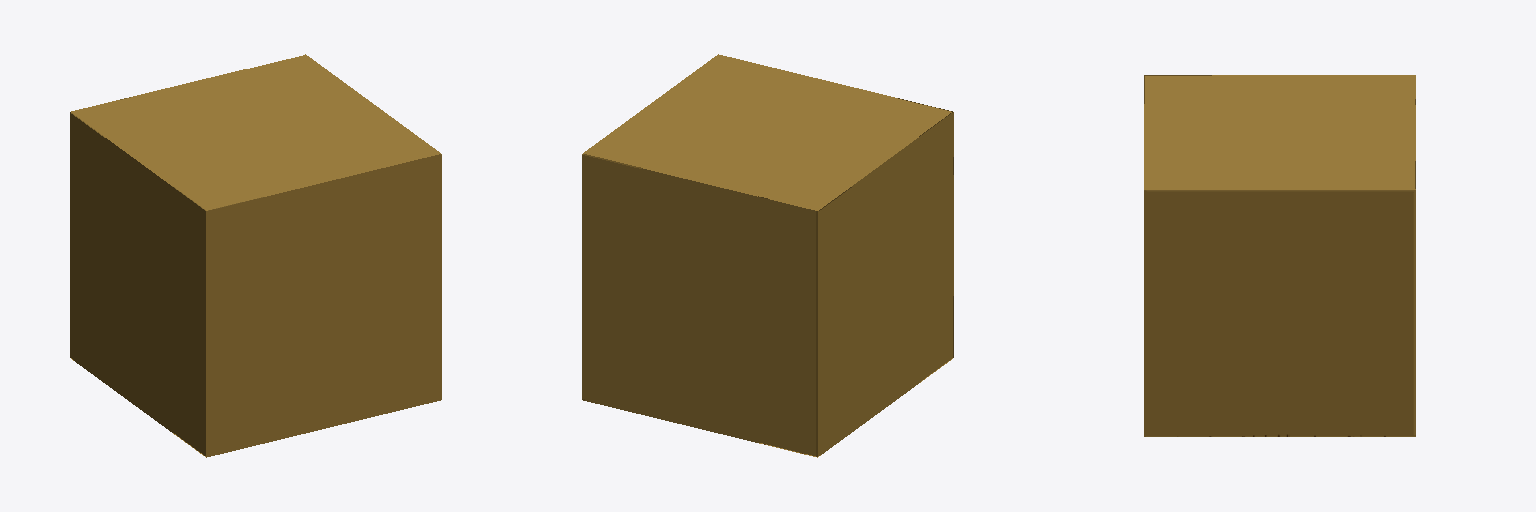
The picture shows the model from 3 angles: view 1: azimuth 30°, elevation 25°; view 2: azimuth 150°, elevation 25°; view 3: azimuth 270°, elevation 25°; orthographic projection.
Parts seen in each view (by area): view 1: Cube; view 2: Cube; view 3: Cube.
Boxes of the visible parts, <box> form: Cube: <box>70,54,441,457</box>; Cube: <box>582,54,953,457</box>; Cube: <box>1144,75,1415,436</box>.
Bounding box in the file's own units: 2 × 2 × 2.
Materials: 1 (1 with a texture image).